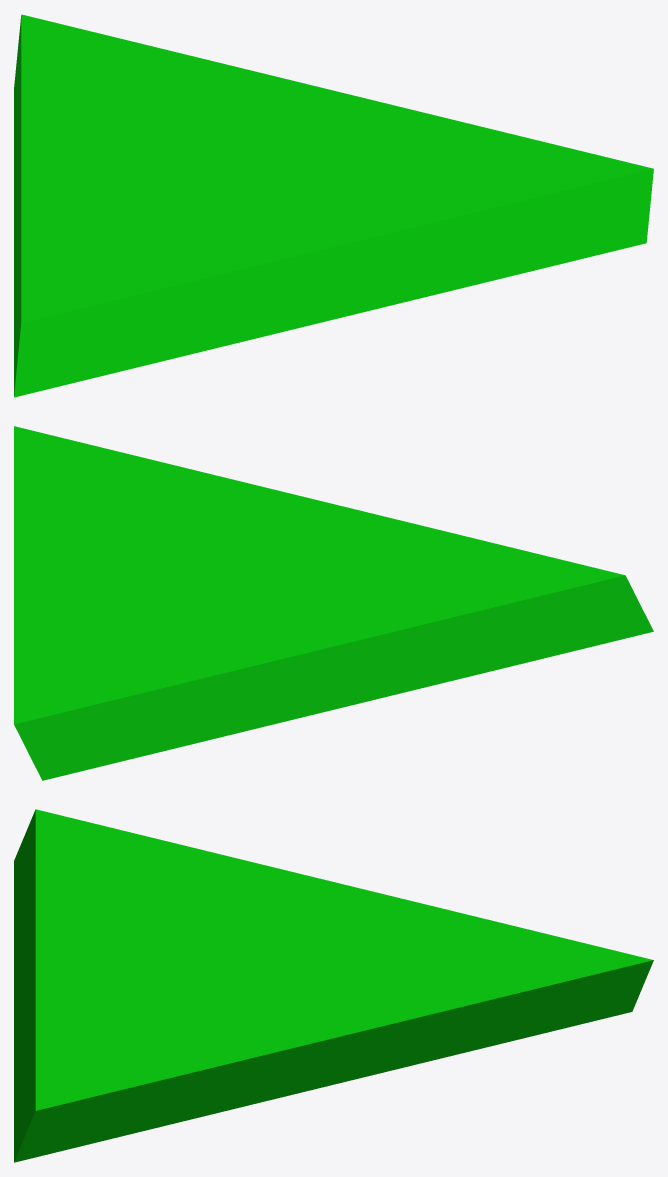
File: triangle2.fbx
The picture shows the model from 3 angles, top to bottom: view 1: azimuth 30°, elevation 25°; view 2: azimuth 150°, elevation 25°; view 3: azimuth 270°, elevation 25°; orthographic projection. The views are drawn at different scales.
Visible parts, largest first — view 1: Circle; view 2: Circle; view 3: Circle.
Part boxes in pixels (x1=…): Circle: x1=14, y1=14, x2=653, y2=397; Circle: x1=14, y1=426, x2=653, y2=780; Circle: x1=14, y1=809, x2=653, y2=1162.
Bounding box in the file's own units: 178 × 16.2 × 155.
